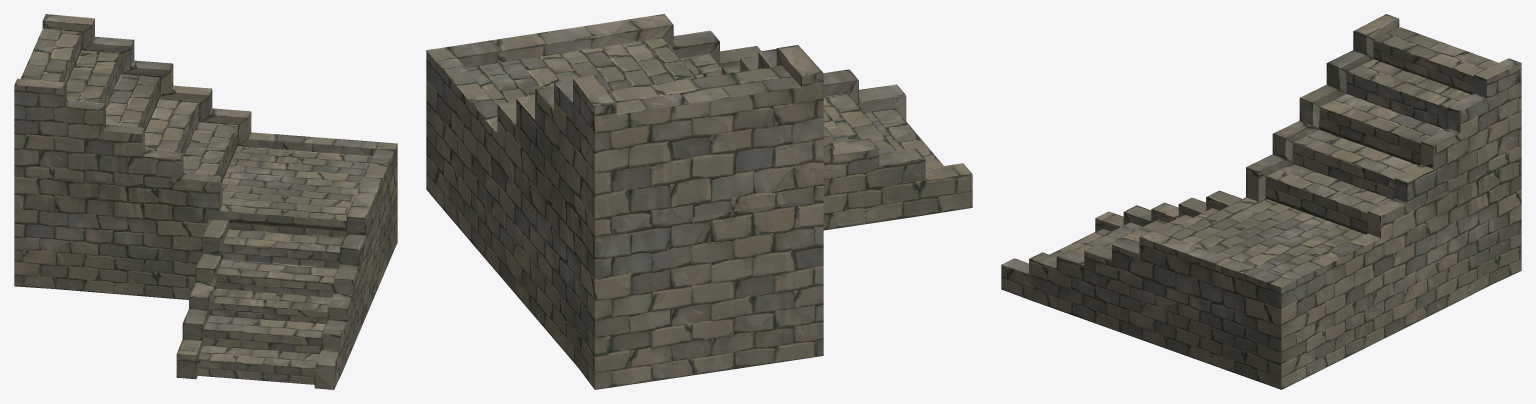
Rendered from C_Stair01.fbx.
The picture shows the model from 3 angles, left to right: view 1: azimuth 30°, elevation 25°; view 2: azimuth 150°, elevation 25°; view 3: azimuth 270°, elevation 25°; orthographic projection. The views are drawn at different scales.
Parts seen in each view (by area): view 1: C_Stair01; view 2: C_Stair01; view 3: C_Stair01.
Boxes of the visible parts, <box> form: C_Stair01: <box>14,14,397,389</box>; C_Stair01: <box>426,14,972,389</box>; C_Stair01: <box>1001,14,1521,389</box>.
Bounding box in the file's own units: 392 × 226 × 513.
